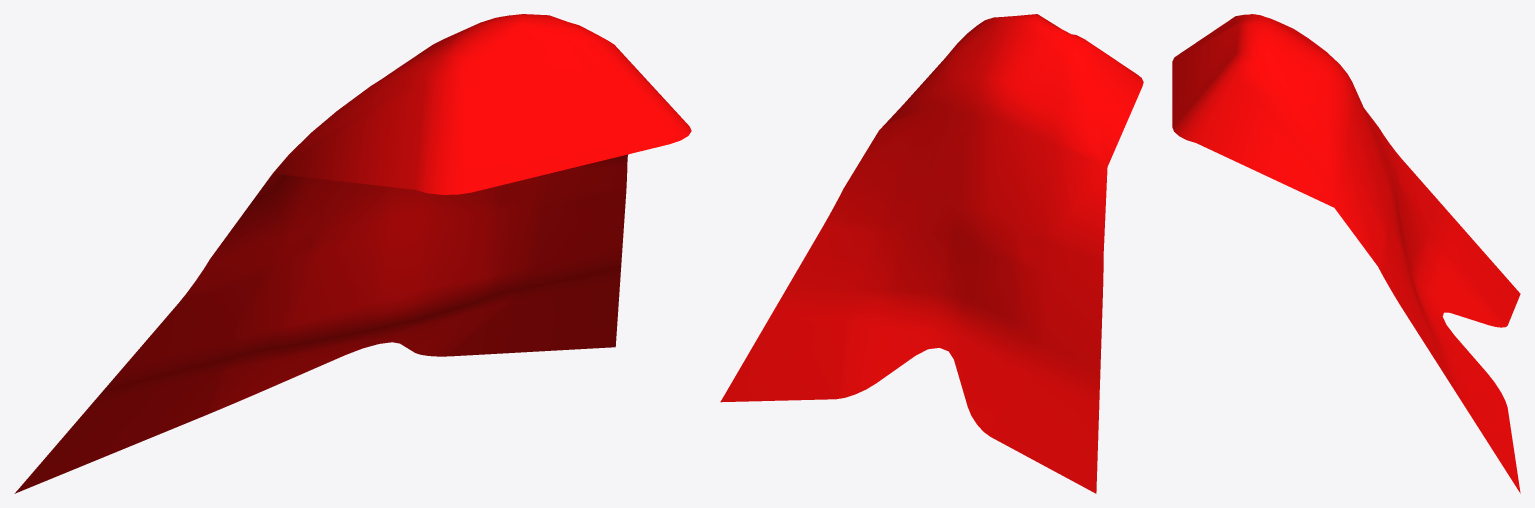
The model's file is cape.glb.
3 views of the same model, side by side, from view 1: azimuth 30°, elevation 25°; view 2: azimuth 150°, elevation 25°; view 3: azimuth 270°, elevation 25° (orthographic). The views are drawn at different scales.
Parts seen in each view (by area): view 1: Plane; view 2: Plane; view 3: Plane.
Part boxes in pixels (box(x1,y1,x2,y2)): Plane: box(14, 14, 691, 493); Plane: box(720, 14, 1143, 493); Plane: box(1172, 14, 1520, 493).
Size of the model in its own units: 0.7727 by 0.668 by 0.5685.
